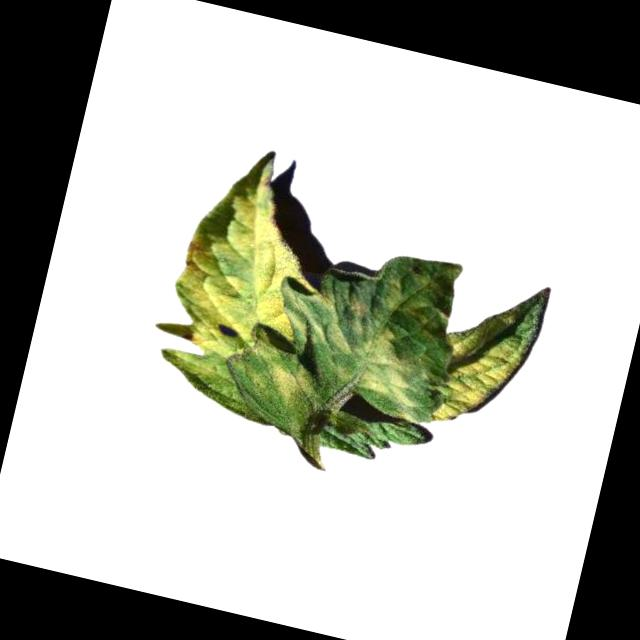Leaf_Mold: (151, 143, 342, 406), (423, 291, 534, 439), (333, 319, 434, 423), (378, 247, 464, 340), (271, 281, 357, 359), (269, 359, 319, 409)
